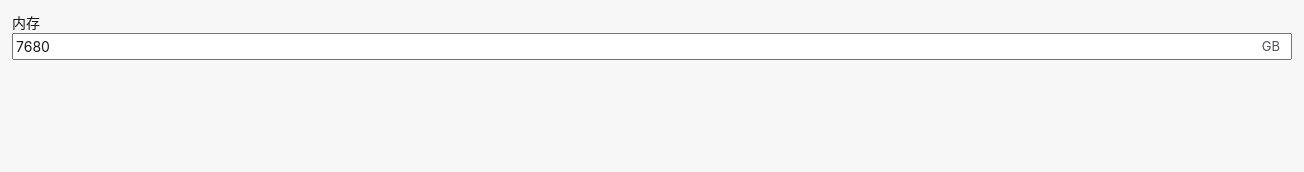
Scenario: number box: a text box with a numeric keyboard that can be cleared, and a dirty value passed in is shown as is
The image size is (1304, 172).
Later steps or results of the test are not shown.
Expected: the text "GB" is shown, [1262, 38, 1280, 54]
Step 1. Clear the field → coordinates (652, 46), box [12, 33, 1292, 60]
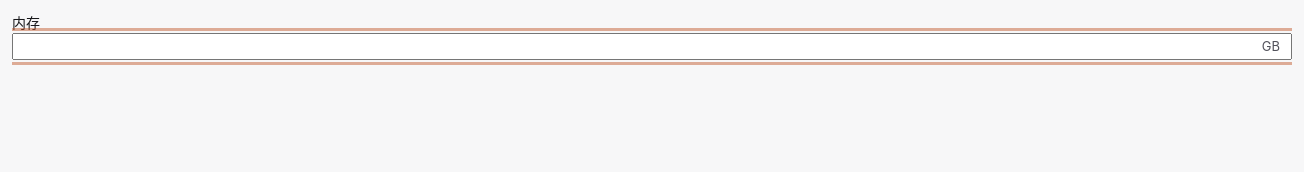
Step 2. Type "4x0e96" into the field → coordinates (652, 46), box [12, 33, 1292, 60]
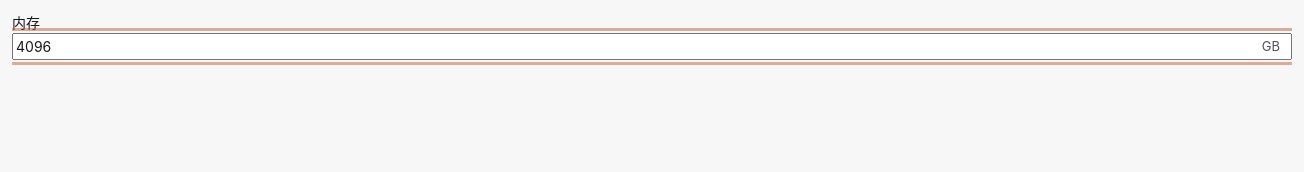
Expected: the field holds "4096"
Step 3. Clear the field → coordinates (652, 46), box [12, 33, 1292, 60]
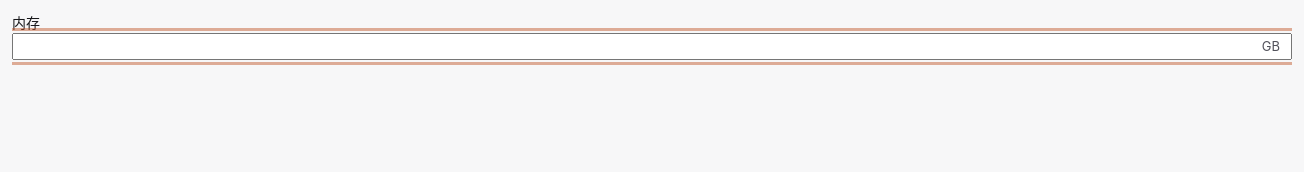
Step 4. Type keys " 12,288 "
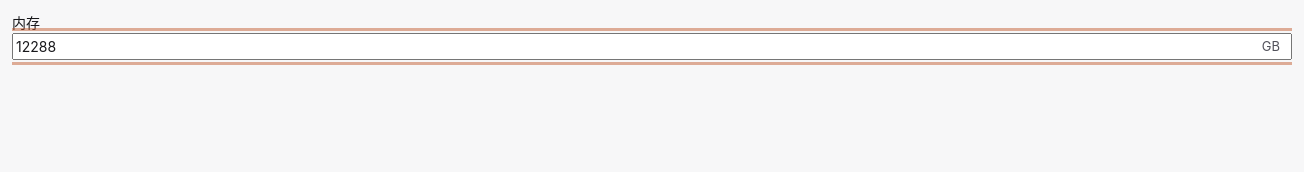
Expected: the field holds "12288", [12, 33, 1292, 60]
